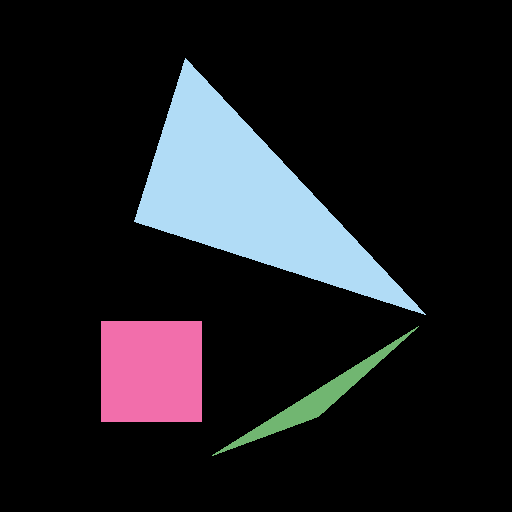square: (101, 321, 201, 421)
triangle: (134, 58, 425, 314), (212, 326, 418, 455)
